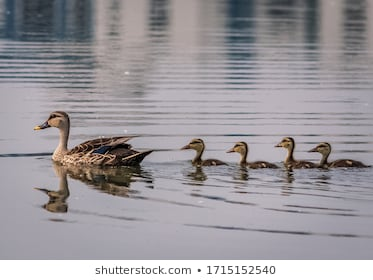duck: (17, 103, 160, 187), (302, 139, 369, 174), (217, 133, 272, 171), (176, 136, 229, 172), (268, 129, 307, 172)
